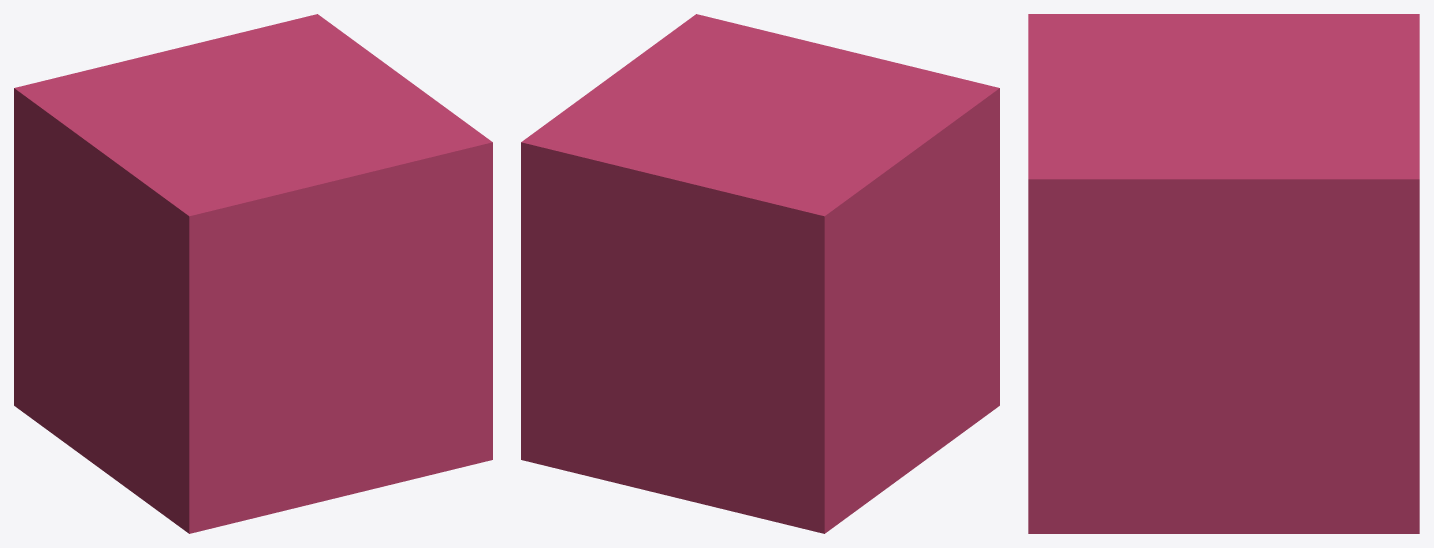
Rendered from cube_grow.fbx.
3 views of the same model, side by side, from view 1: azimuth 30°, elevation 25°; view 2: azimuth 150°, elevation 25°; view 3: azimuth 270°, elevation 25° (orthographic). The views are drawn at different scales.
Bounding box in the file's own units: 100 × 100 × 100.
